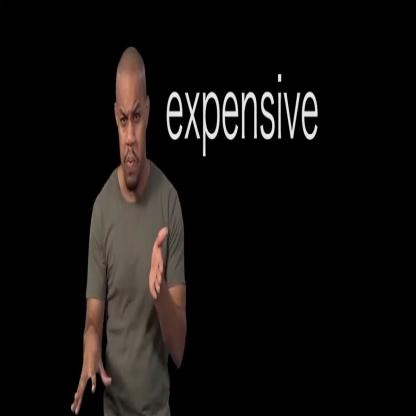Expensive: (70, 214, 171, 416)
